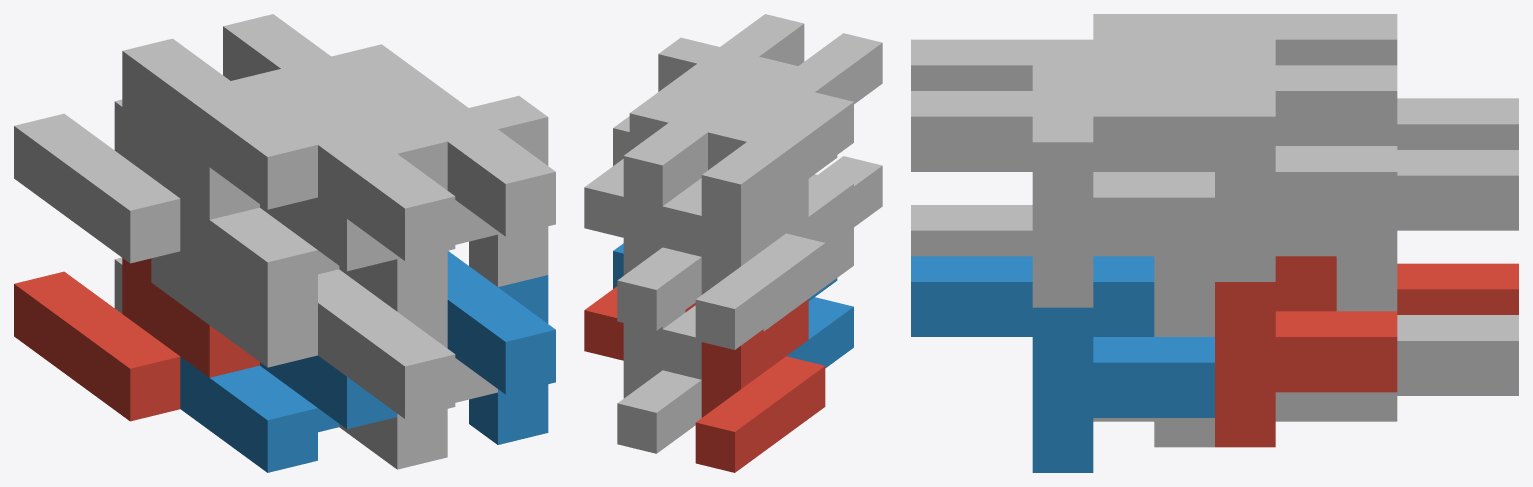
File: tiling.obj
3 renders of one model, left to right at view 1: azimuth 30°, elevation 25°; view 2: azimuth 150°, elevation 25°; view 3: azimuth 270°, elevation 25°, orthographic. The views are drawn at different scales.
Parts seen in each view (by area): view 1: copy_1_domain_3, copy_1_domain_1, copy_2_domain_4, copy_2_domain_8, copy_2_domain_2, copy_1_domain_4, copy_2_domain_3, copy_1_domain_2, copy_2_domain_6, copy_2_domain_1, copy_2_domain_7, copy_1_domain_7 (+2 smaller); view 2: copy_1_domain_3, copy_1_domain_1, copy_2_domain_3, copy_1_domain_7, copy_2_domain_7, copy_1_domain_5, copy_2_domain_8, copy_2_domain_4, copy_1_domain_4, copy_2_domain_1, copy_1_domain_2, copy_2_domain_5 (+3 smaller); view 3: copy_2_domain_8, copy_2_domain_6, copy_2_domain_7, copy_2_domain_5, copy_1_domain_7, copy_1_domain_5, copy_2_domain_4, copy_1_domain_3, copy_2_domain_3, copy_1_domain_8, copy_1_domain_6, copy_1_domain_1 (+2 smaller).
Part boxes in pixels (bbox=[...]): copy_1_domain_3: bbox=[14, 38, 259, 263]; copy_1_domain_1: bbox=[14, 258, 259, 421]; copy_2_domain_4: bbox=[289, 111, 455, 311]; copy_2_domain_8: bbox=[390, 87, 555, 286]; copy_2_domain_2: bbox=[318, 269, 455, 469]; copy_1_domain_4: bbox=[180, 90, 397, 314]; copy_2_domain_3: bbox=[151, 60, 317, 209]; copy_1_domain_2: bbox=[180, 355, 397, 472]; copy_2_domain_6: bbox=[447, 251, 555, 444]; copy_2_domain_1: bbox=[151, 251, 317, 367]; copy_2_domain_7: bbox=[252, 35, 417, 132]; copy_1_domain_7: bbox=[114, 14, 301, 155]; copy_1_domain_3: bbox=[695, 158, 825, 349]; copy_1_domain_1: bbox=[695, 299, 825, 472]; copy_2_domain_3: bbox=[662, 92, 853, 256]; copy_1_domain_7: bbox=[617, 139, 701, 330]; copy_2_domain_7: bbox=[584, 73, 775, 237]; copy_1_domain_5: bbox=[617, 310, 701, 453]; copy_2_domain_8: bbox=[613, 14, 804, 165]; copy_2_domain_4: bbox=[737, 33, 882, 108]; copy_1_domain_4: bbox=[731, 99, 853, 245]; copy_2_domain_1: bbox=[662, 225, 853, 379]; copy_1_domain_2: bbox=[786, 278, 853, 368]; copy_2_domain_5: bbox=[584, 286, 695, 360]; copy_2_domain_8: bbox=[911, 91, 1214, 307]; copy_2_domain_6: bbox=[911, 256, 1214, 472]; copy_2_domain_7: bbox=[1093, 65, 1397, 281]; copy_2_domain_5: bbox=[1215, 256, 1397, 447]; copy_1_domain_7: bbox=[1336, 65, 1518, 256]; copy_1_domain_5: bbox=[1336, 256, 1518, 421]; copy_2_domain_4: bbox=[911, 39, 1154, 90]; copy_1_domain_3: bbox=[1336, 14, 1518, 149]; copy_2_domain_3: bbox=[1093, 14, 1336, 65]; copy_1_domain_8: bbox=[1093, 91, 1336, 281]; copy_1_domain_6: bbox=[1093, 282, 1336, 447]; copy_1_domain_1: bbox=[1397, 263, 1518, 314].
Size of the model in its own units: 6 by 6 by 10.
